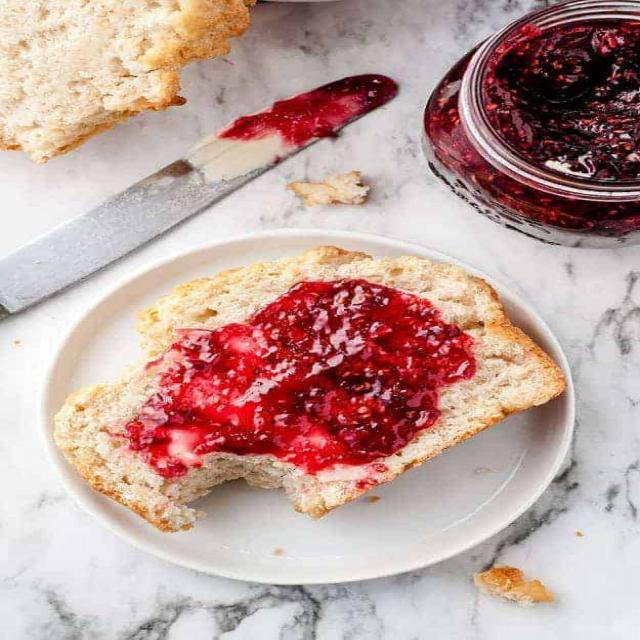Spread: (139, 284, 478, 478)
